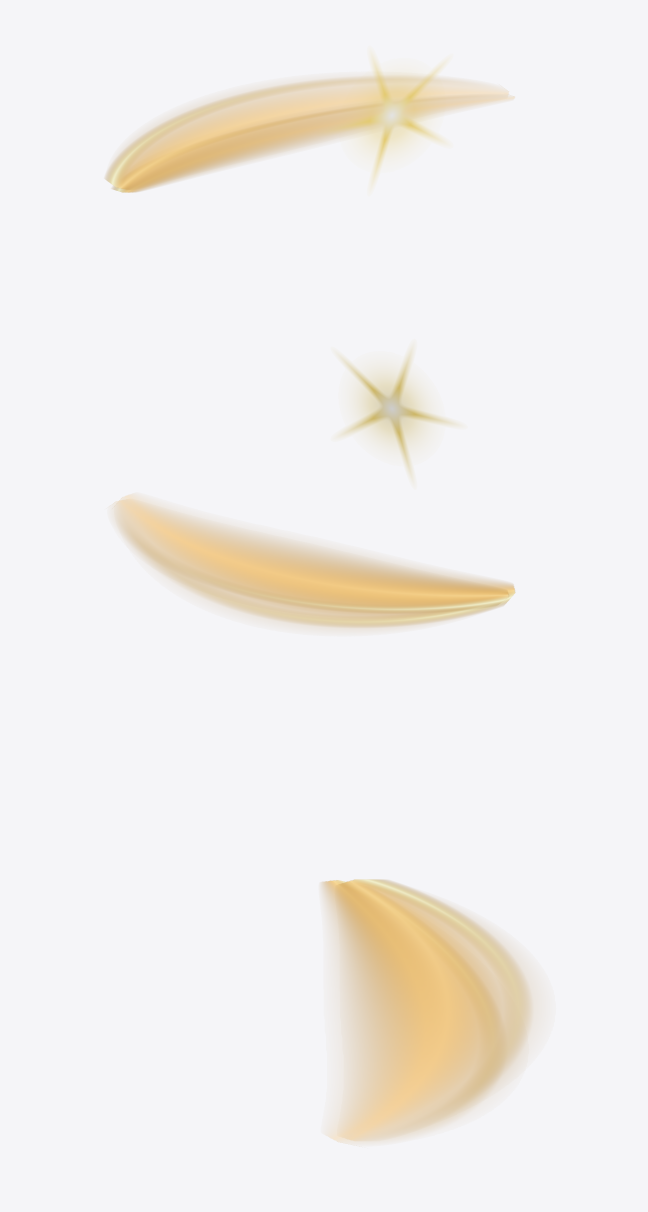
The model's file is fx_sw_pan.glb.
The picture shows the model from 3 angles, top to bottom: view 1: azimuth 30°, elevation 25°; view 2: azimuth 150°, elevation 25°; view 3: azimuth 270°, elevation 25°; orthographic projection. The views are drawn at different scales.
Visible parts, largest first — view 1: fx_sw, fx_bonk; view 2: fx_sw, fx_bonk; view 3: fx_sw.
Part boxes in pixels (<box>): fx_sw: <box>105,76,514,192</box>; fx_bonk: <box>326,55,445,185</box>; fx_sw: <box>112,495,515,628</box>; fx_bonk: <box>338,348,457,479</box>; fx_sw: <box>321,879,533,1143</box>.
Size of the model in its own units: 1 by 0.5 by 1.
2 materials, 2 textured.
